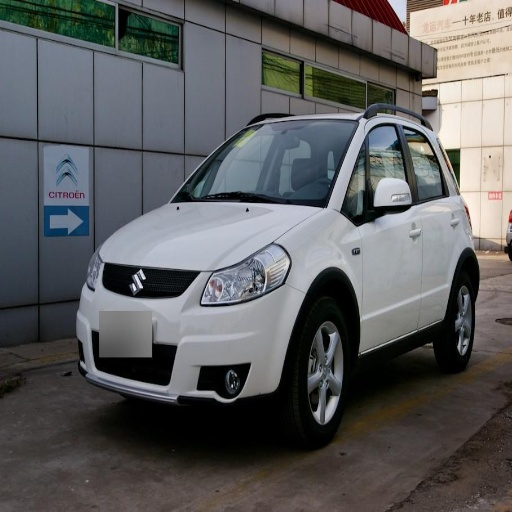front_bumper: (76, 257, 305, 404)
front_glass: (173, 122, 358, 207)
front_left_door: (356, 116, 422, 344)
